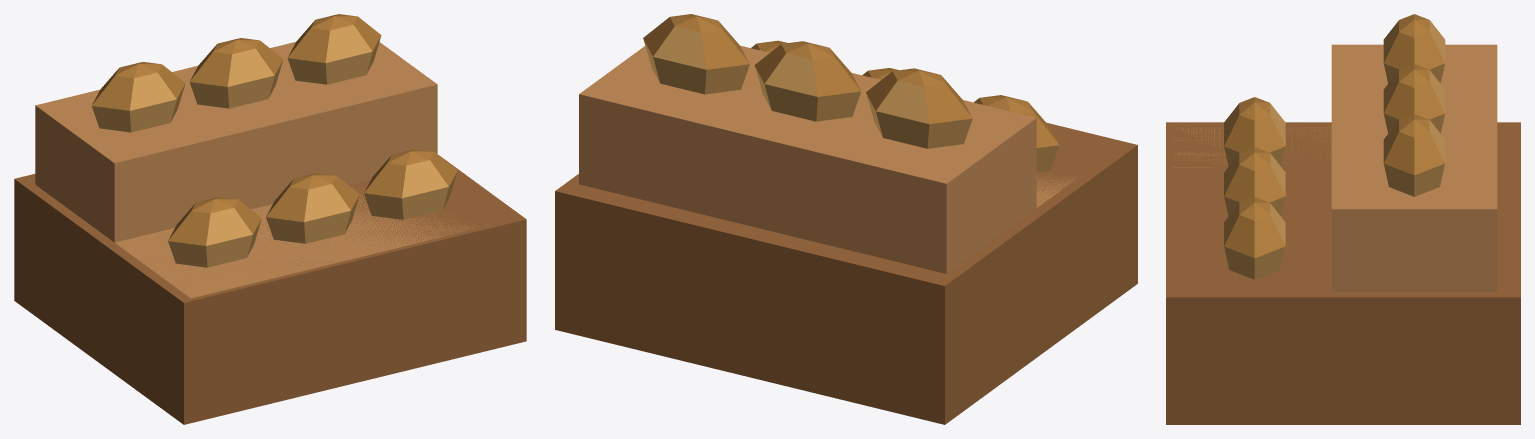
Rendered from display-bread.glb.
3 renders of one model, left to right at view 1: azimuth 30°, elevation 25°; view 2: azimuth 150°, elevation 25°; view 3: azimuth 270°, elevation 25°, orthographic. The views are drawn at different scales.
Parts seen in each view (by area): view 1: display-bread; view 2: display-bread; view 3: display-bread.
Part boxes in pixels (x1,y1,x2,y2): display-bread: (14, 14, 526, 424); display-bread: (555, 14, 1137, 424); display-bread: (1166, 14, 1520, 424).
Bounding box in the file's own units: 0.7 × 0.5 × 0.6.
1 material, 1 textured.
